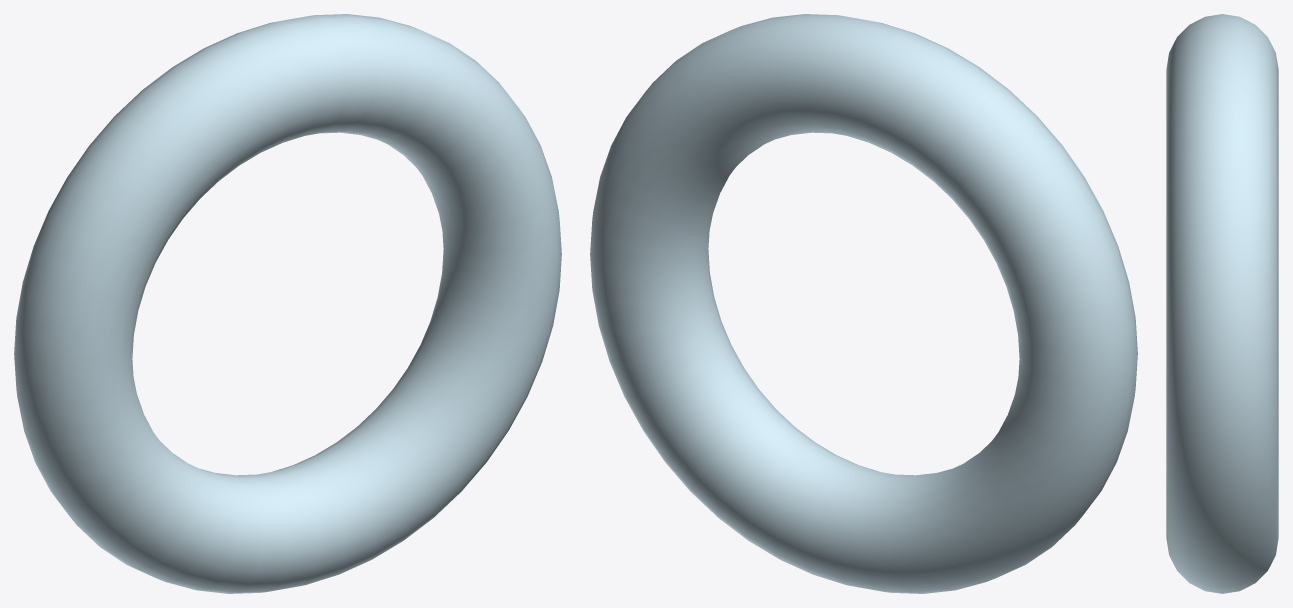
File: solitaire_engagement.glb
The picture shows the model from 3 angles, left to right: view 1: azimuth 30°, elevation 25°; view 2: azimuth 150°, elevation 25°; view 3: azimuth 270°, elevation 25°; orthographic projection. The views are drawn at different scales.
Bounding box in the file's own units: 1.24 × 1.24 × 0.24.
